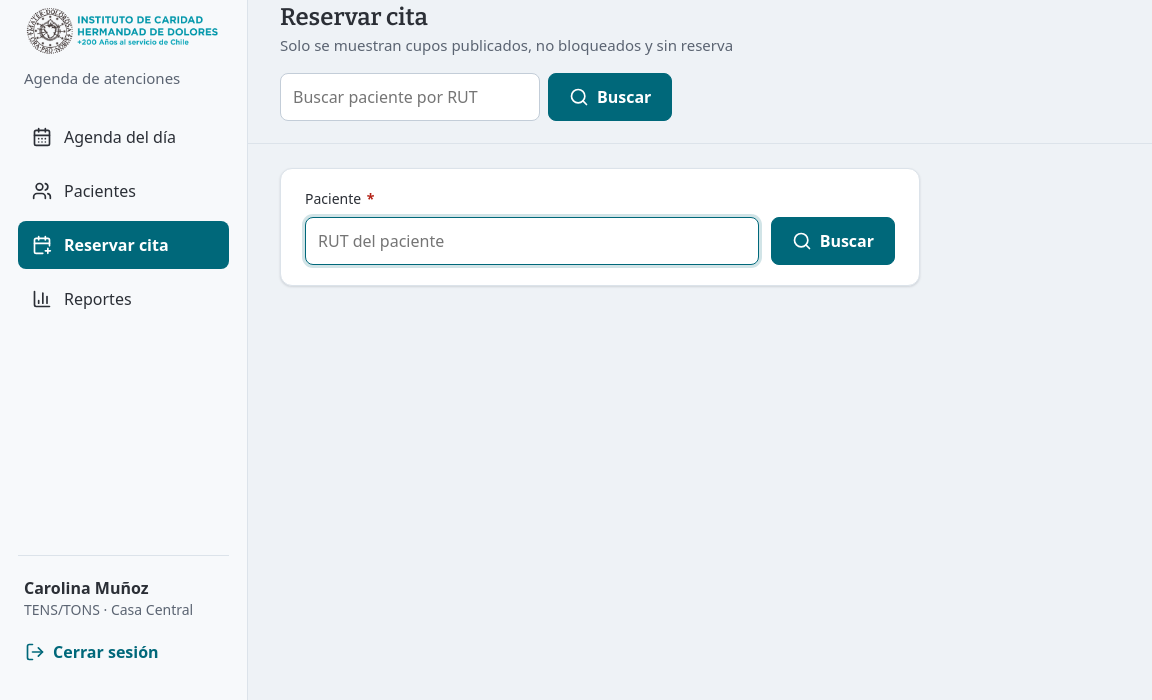
Test case: Reservar cita: recorrido A (CU-04) › busca al paciente, filtra, elige un cupo y confirma
The width and height of the screenshot is (1152, 700).
Type "12.345.678-5" into the field labelled "Paciente *" at (532, 240), box [305,216,759,264]
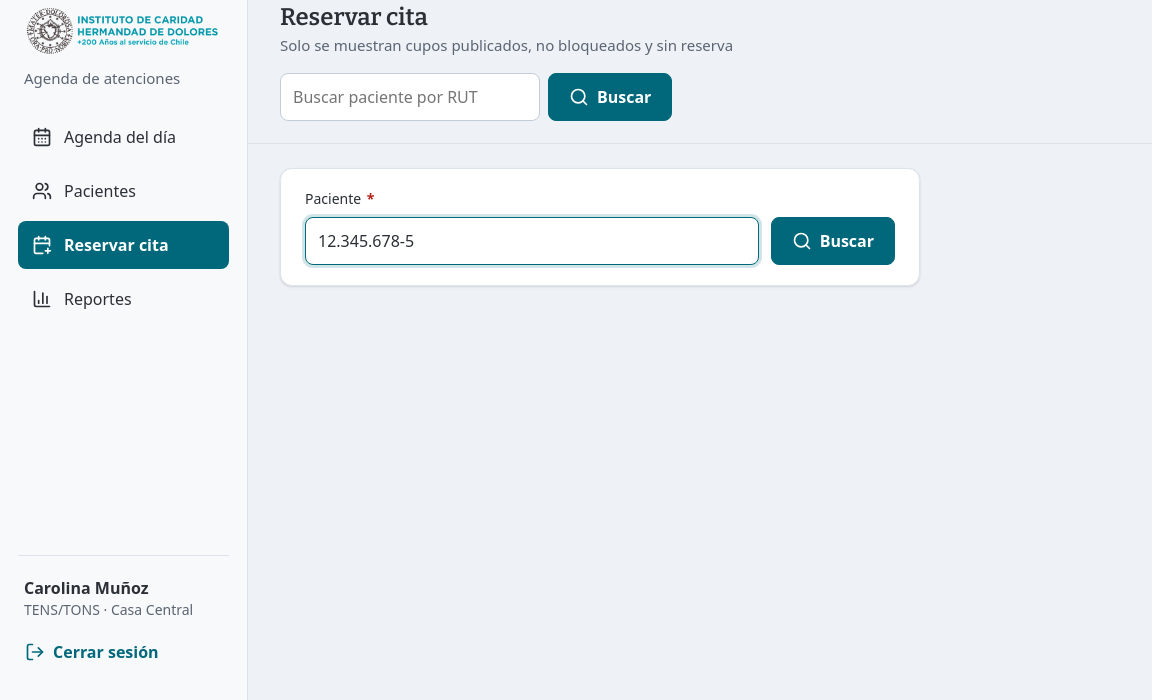
Click the 2nd button "Buscar" at (833, 240), box [771,216,895,264]
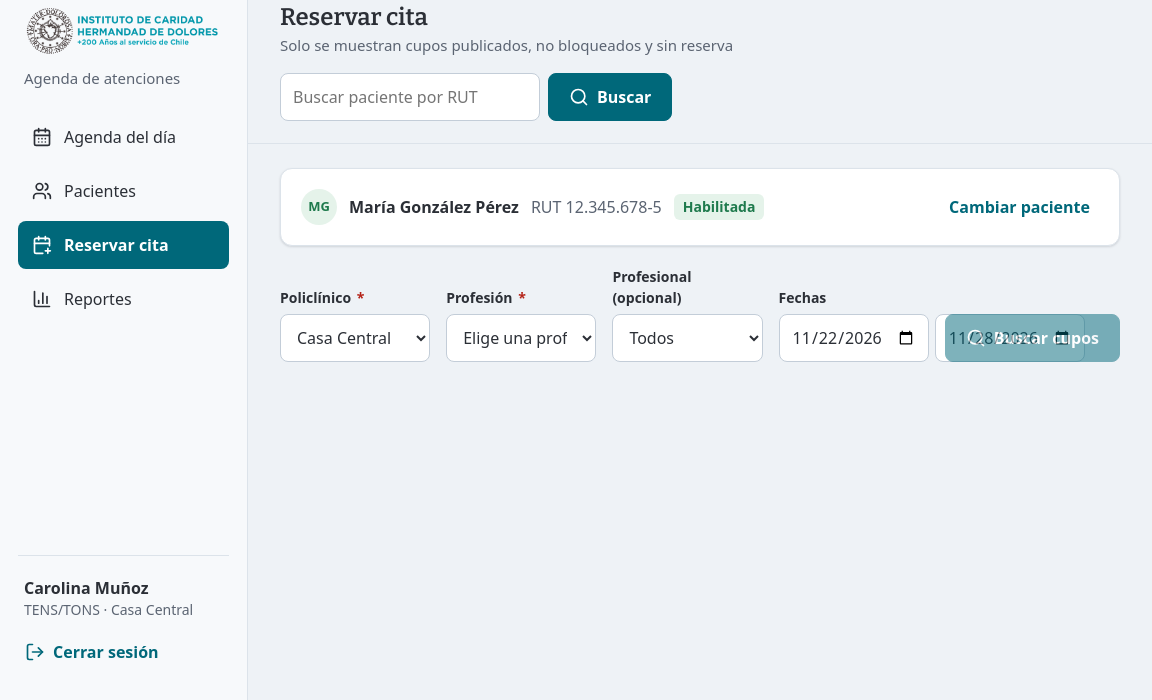
Check: the text "María González Pérez" is shown, box [349,194,519,218]
Check: the text "Habilitada" is shown, box [674,194,764,220]
Select "Medicina" in the dropdown labelled "Profesión *" at (521, 338), box [446,314,596,362]
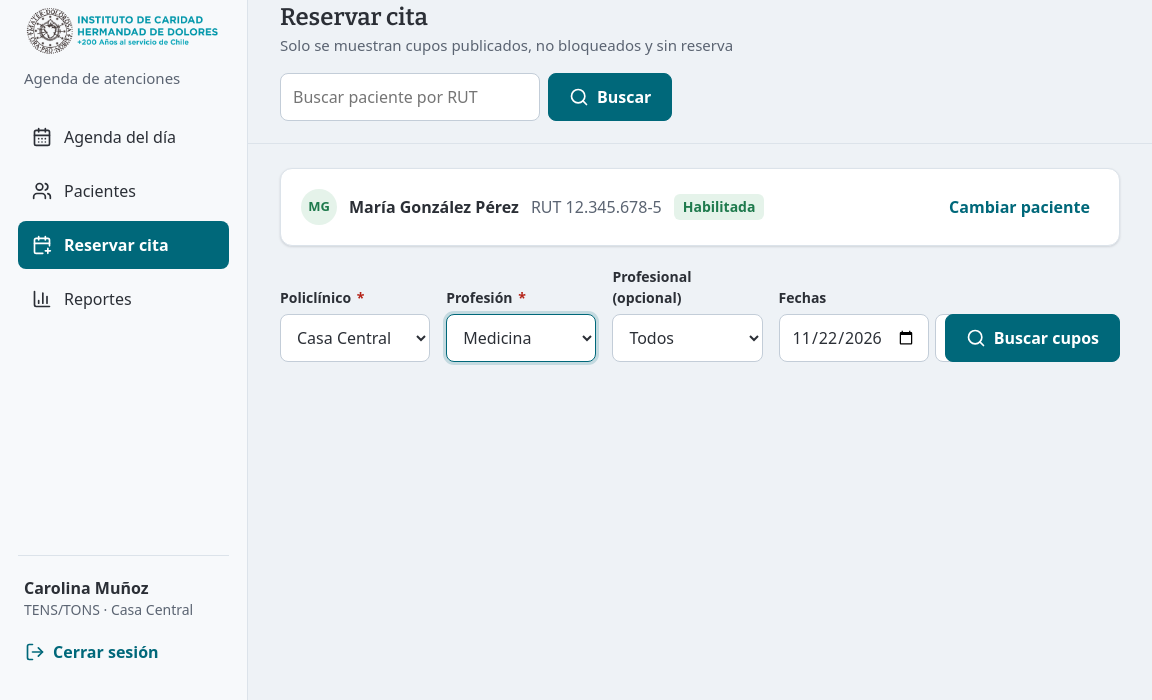
Click the button "Buscar cupos" at (1032, 338), box [945,314,1120,362]
(page scrolled)
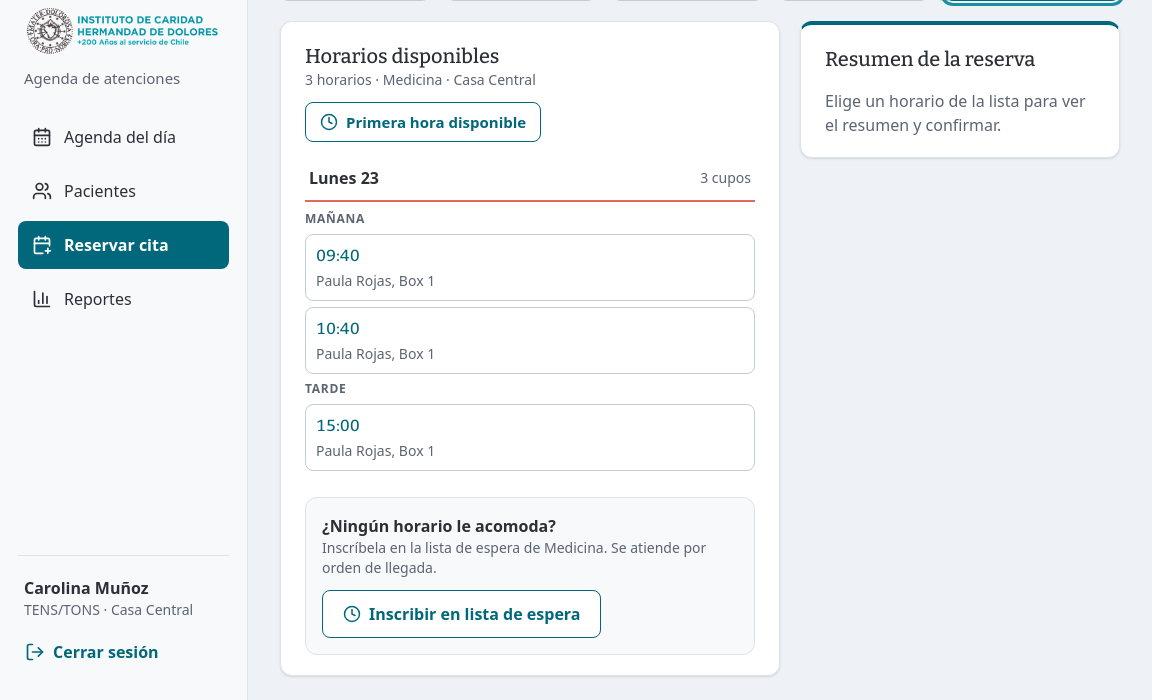
Check: the text "MAÑANA" is shown, box [305,210,365,226]
Check: the text "TARDE" is shown, box [305,380,346,396]
Click the button "10:40Paula Rojas, Box 1" at (338, 328), box [305,306,755,374]
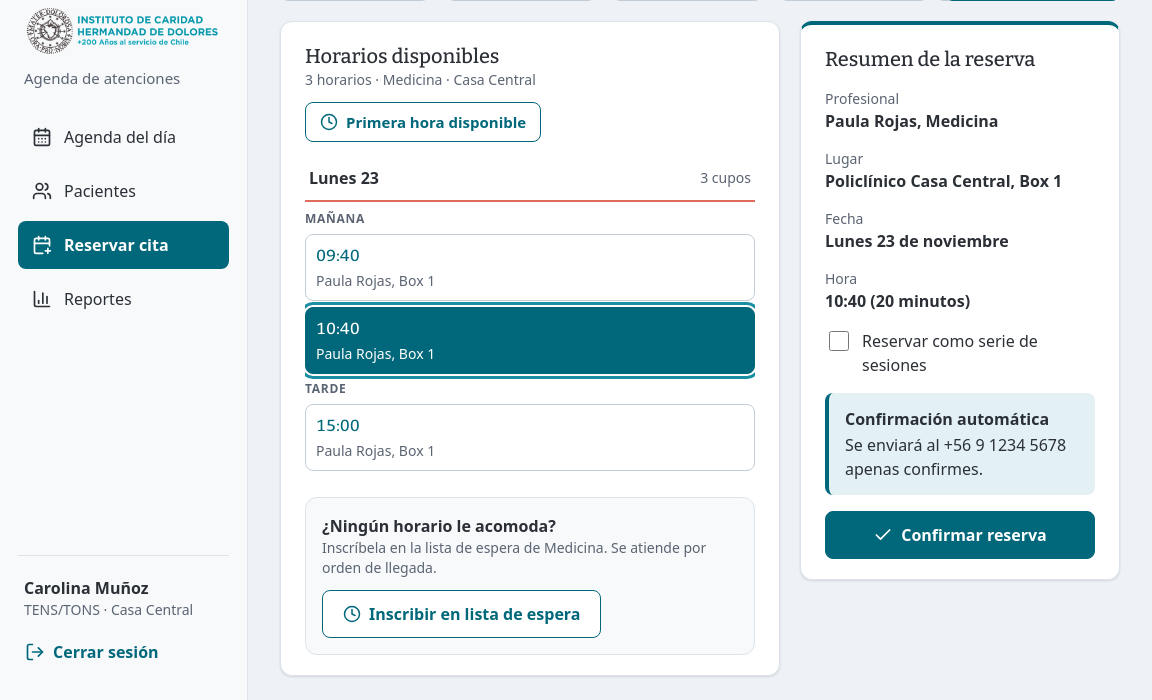
Check: the text "10:40 (20 minutos)" is shown, box [825,290,970,312]
Check: the text "Se enviará al +56 9 1234 5678 apenas confirmes." is shown, box [845,432,1079,480]
Click the button "Confirmar reserva" at (960, 534), box [825,510,1095,558]
(page scrolled)
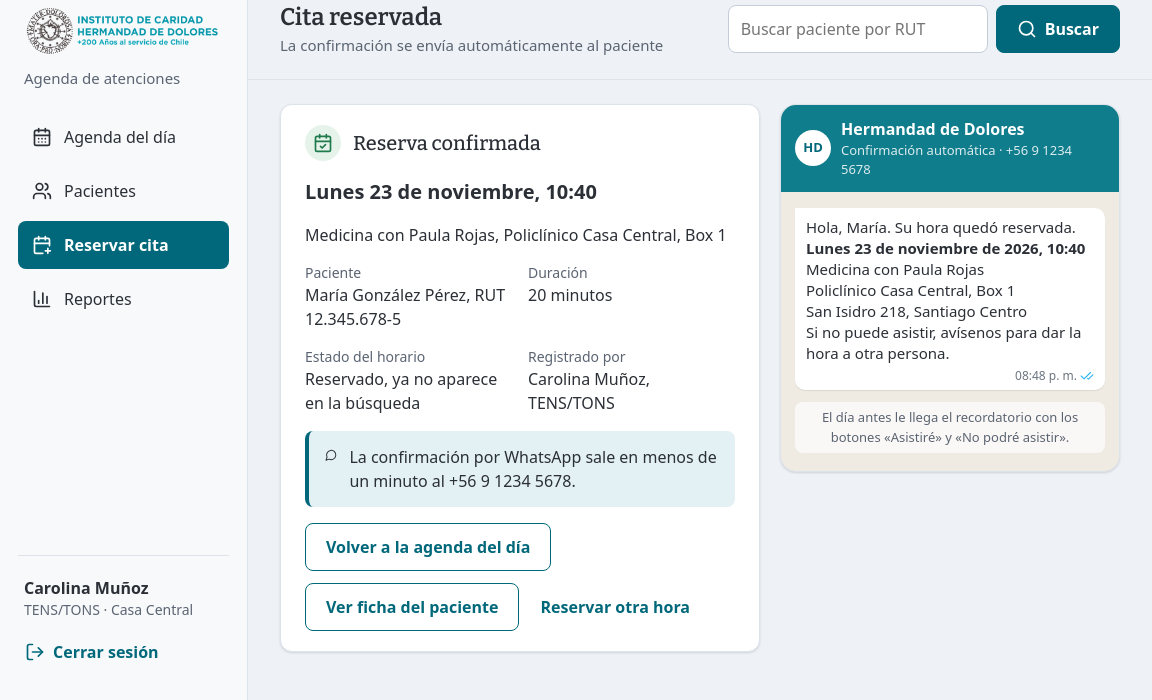
Check: the heading "Reserva confirmada" is shown, box [353,128,541,156]
